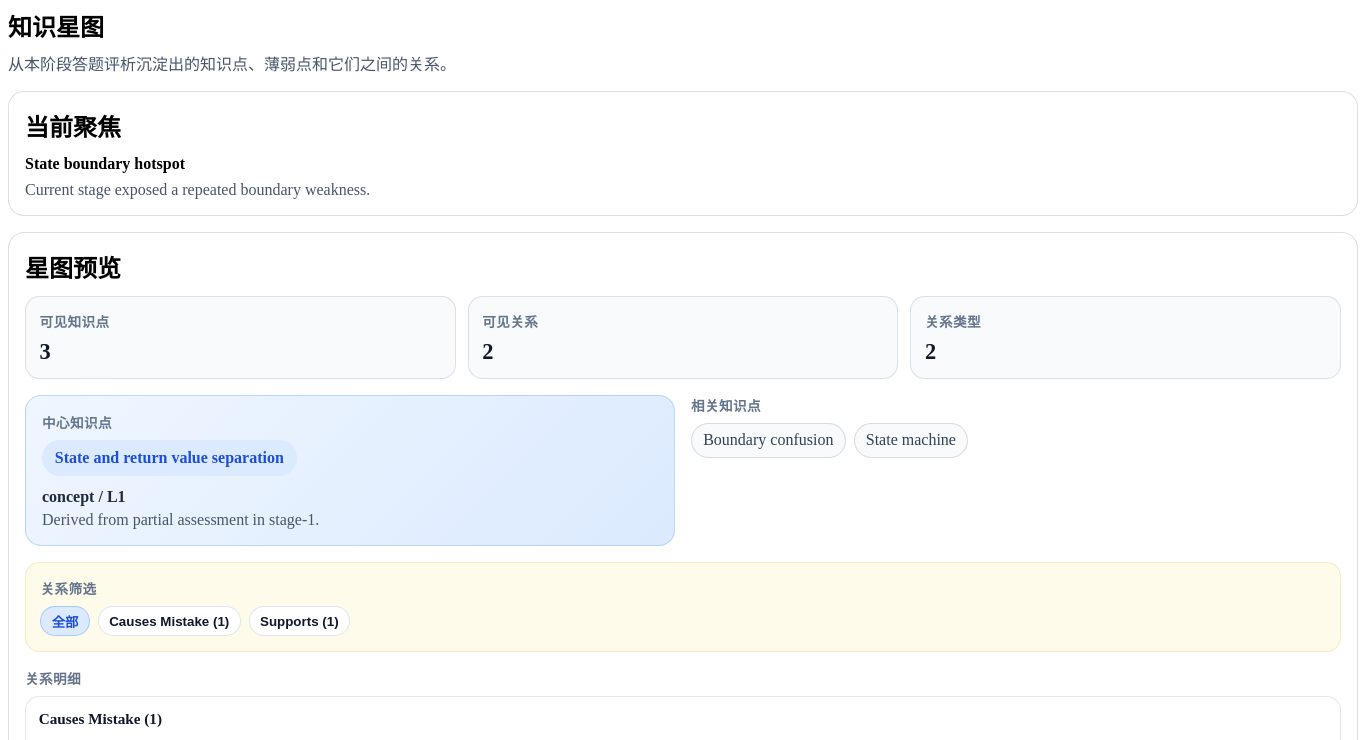
Scenario: KnowledgeGraphPage filters visible relations by type
The width and height of the screenshot is (1366, 740).
Expected: the heading "知识星图" is shown, [8,15,104,41]
Click the button "Supports (1)" at (299, 621), box [249,606,350,636]
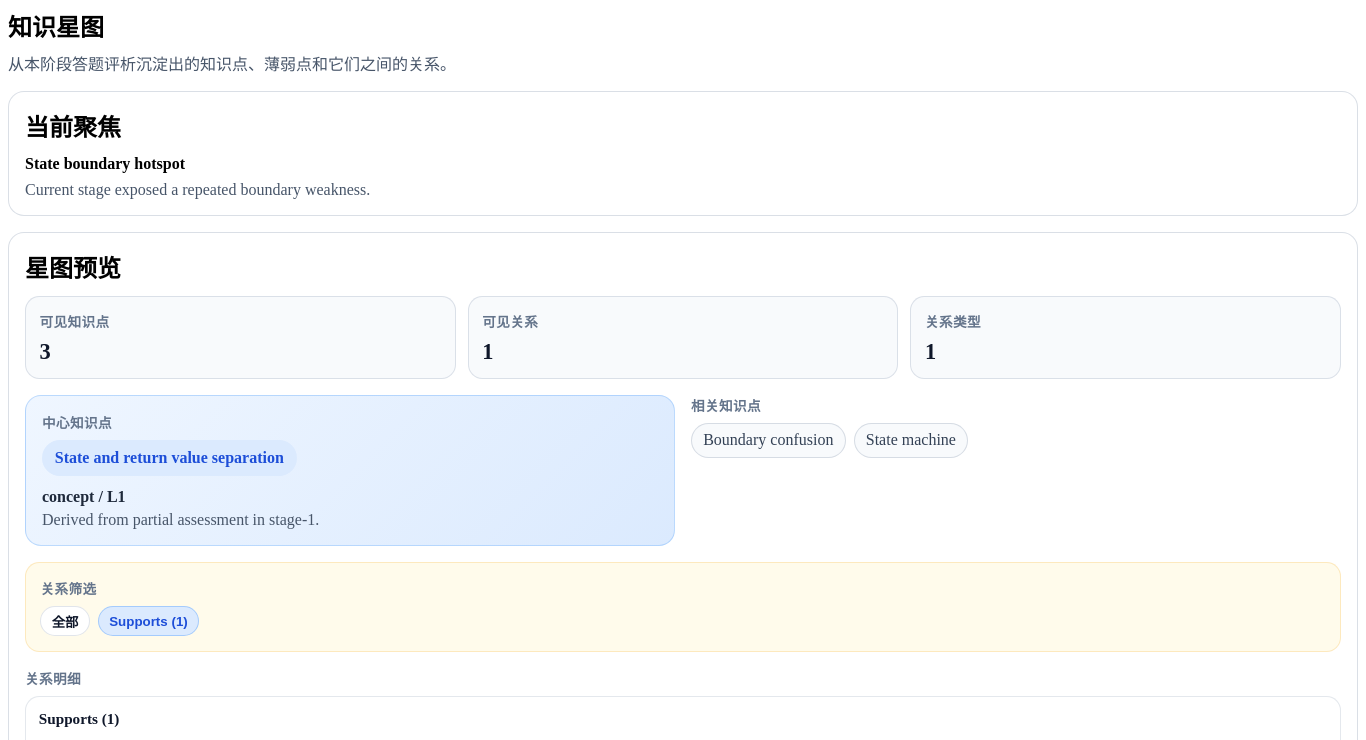
Result: the button "Causes Mistake (1)" is gone
